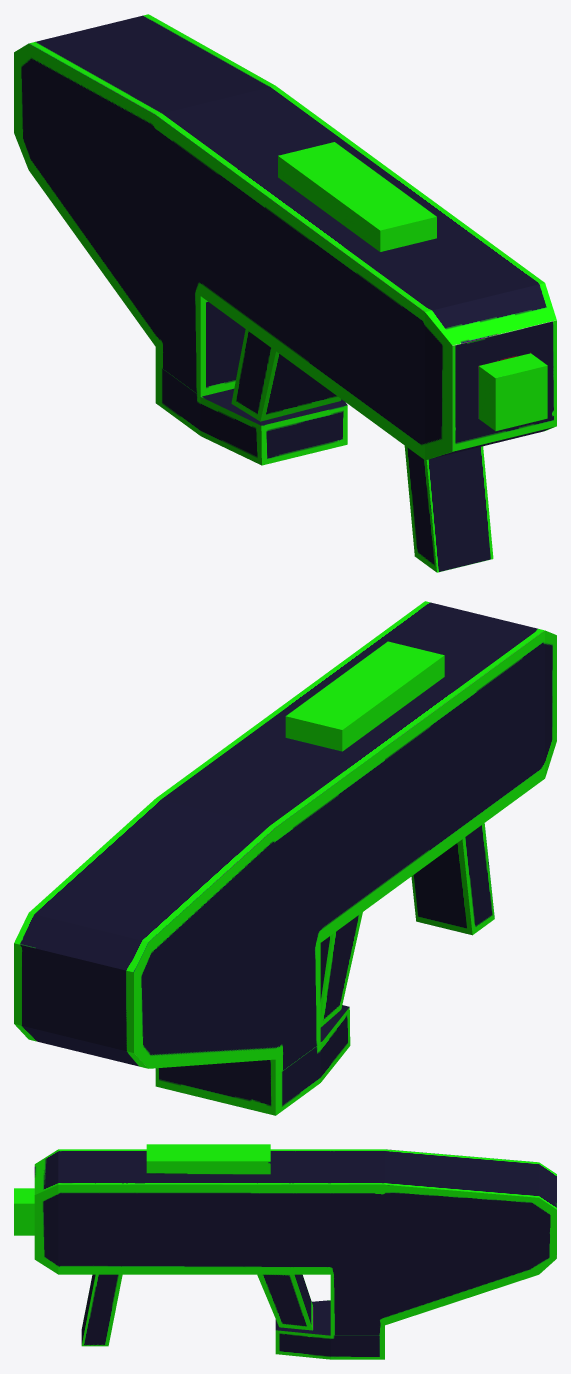
The model's file is V3_smg_scaling.fbx.
3 views of the same model, one above another, from view 1: azimuth 30°, elevation 25°; view 2: azimuth 150°, elevation 25°; view 3: azimuth 270°, elevation 25° (orthographic). The views are drawn at different scales.
Parts seen in each view (by area): view 1: smg; view 2: smg; view 3: smg.
Part boxes in pixels (box(x1,y1,x2,y2)): smg: box(14, 14, 556, 572); smg: box(14, 601, 556, 1115); smg: box(14, 1144, 556, 1359).
Size of the model in its own units: 7.72 by 19.06 by 49.93.
